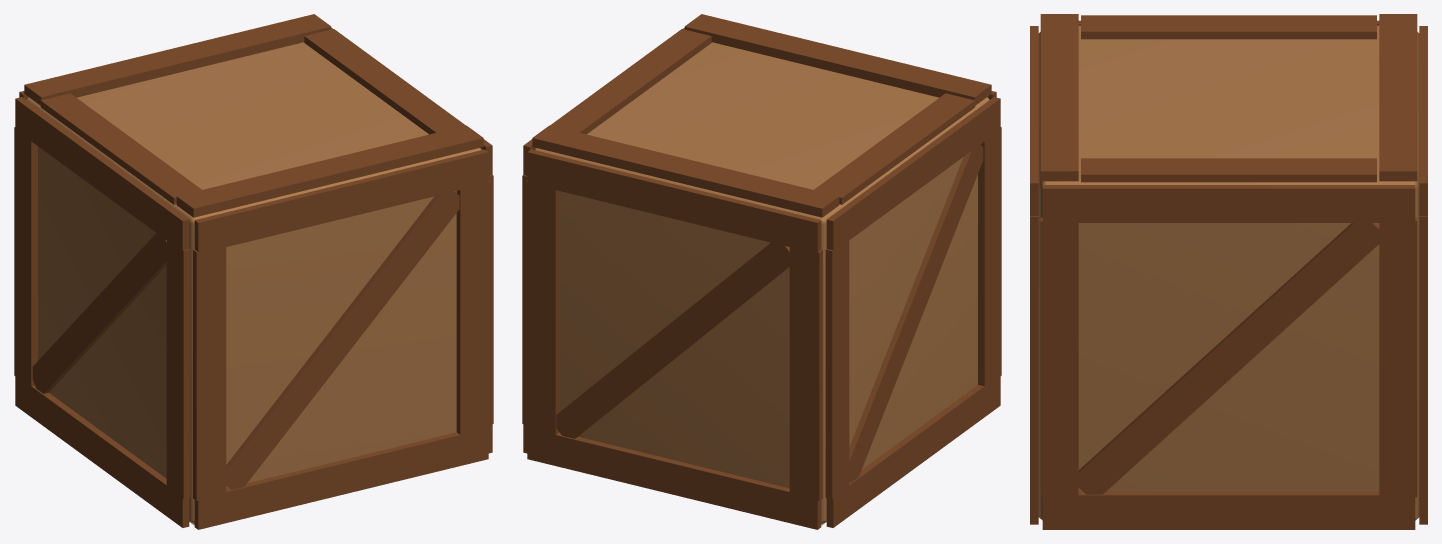
Rendered from block-prop2.glb.
3 renders of one model, left to right at view 1: azimuth 30°, elevation 25°; view 2: azimuth 150°, elevation 25°; view 3: azimuth 270°, elevation 25°, orthographic. The views are drawn at different scales.
Parts seen in each view (by area): view 1: block-prop2; view 2: block-prop2; view 3: block-prop2.
Boxes of the visible parts, x1,y1,x2,y2 form: block-prop2: (14, 14, 493, 529); block-prop2: (522, 14, 1001, 529); block-prop2: (1030, 14, 1427, 529).
Bounding box in the file's own units: 0.94 × 0.926 × 0.94.
